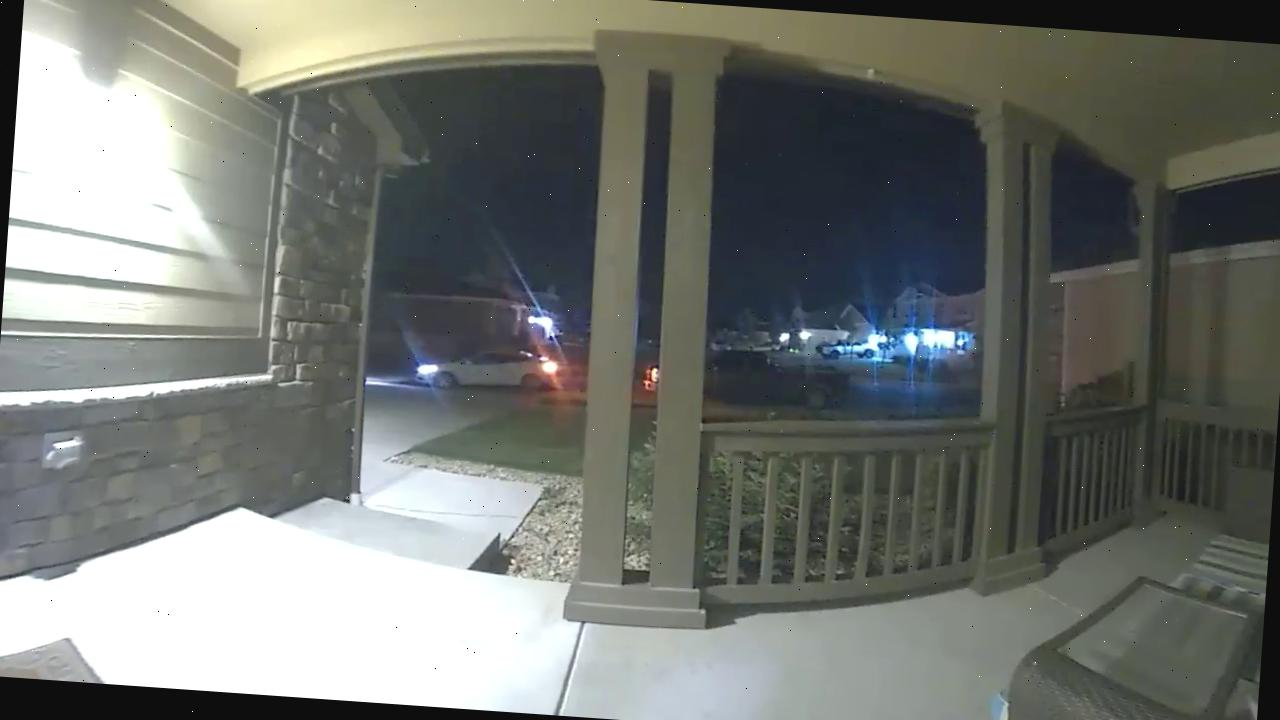suspicion: (632, 330, 859, 429), (398, 330, 567, 417), (820, 323, 884, 365)
